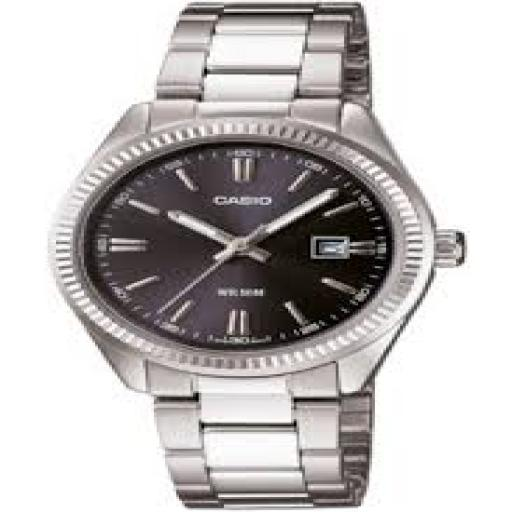KolSaati: (54, 0, 485, 512)
